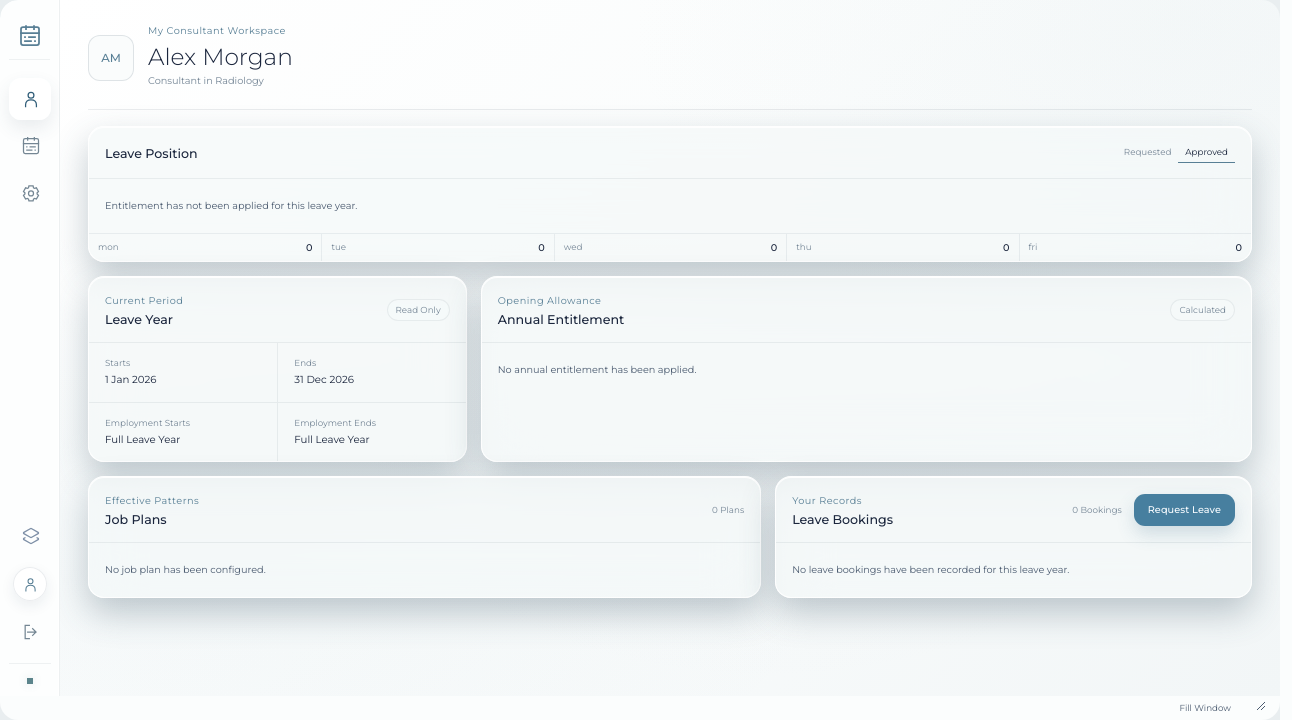
Member application workspace › renders booking states without private colleague details on the shared wallchart
This screenshot has width=1292, height=720.
Expected: the heading "Alex Morgan" is shown, [148, 41, 293, 73]
Click the button named "Team Wallchart": (30, 146) [9, 125, 51, 167]
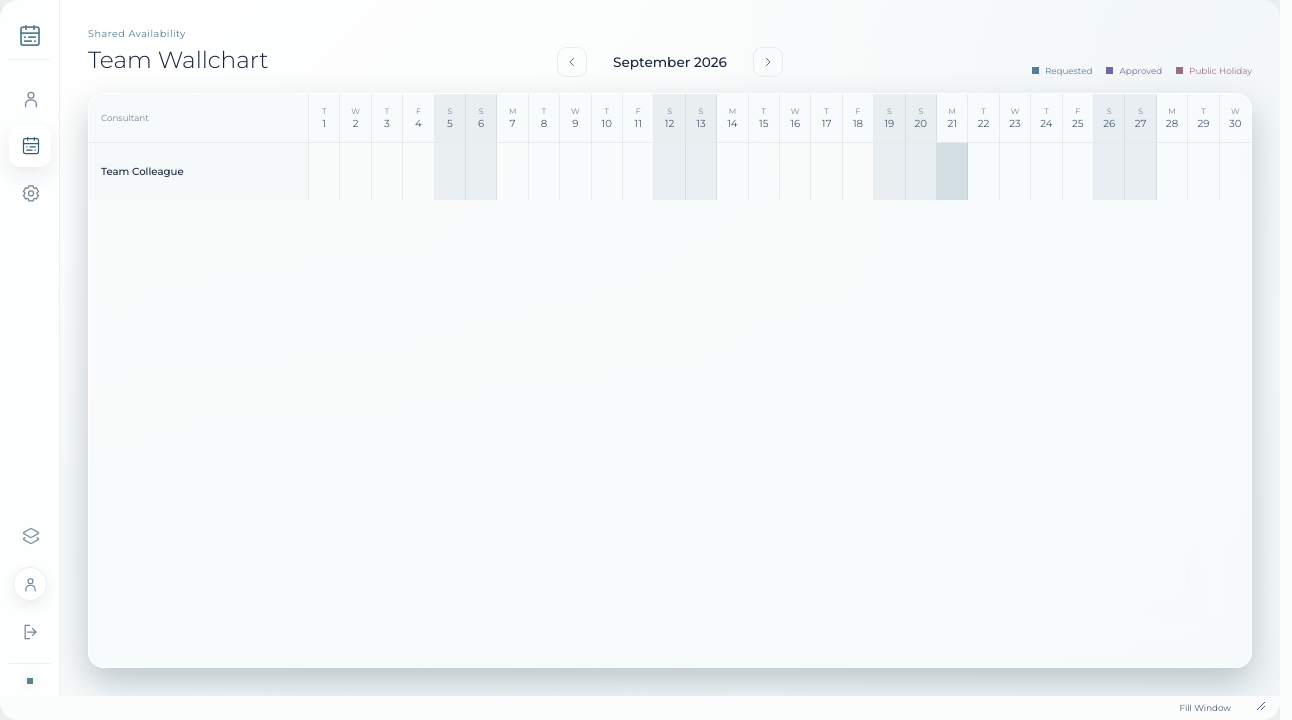
Now the text "Team Colleague" is shown, box [101, 165, 184, 179]
Now the column heading "T 1" is shown, box [309, 94, 340, 142]
Now the text "My Consultant Workspace" is gone
